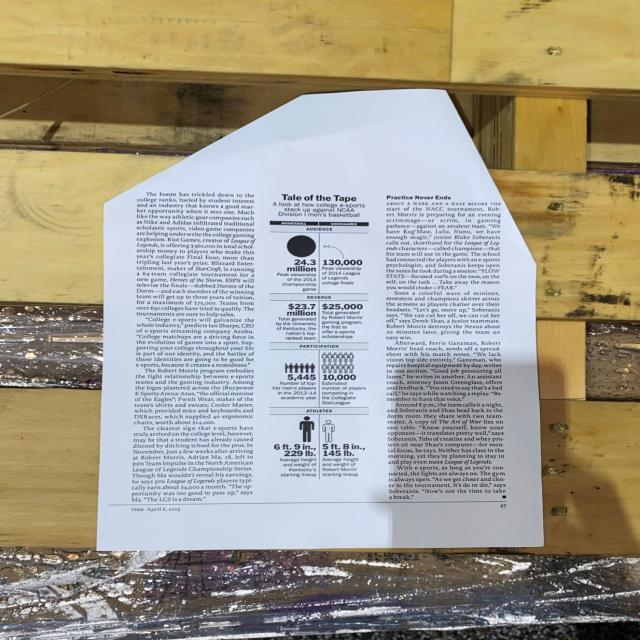document: (97, 90, 544, 550)
